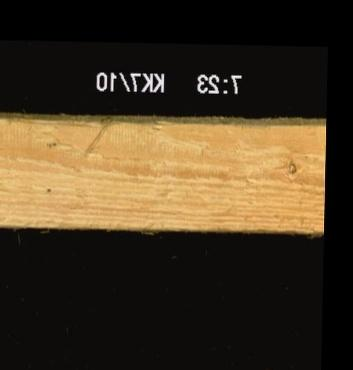small_knot: (286, 158, 300, 175)
